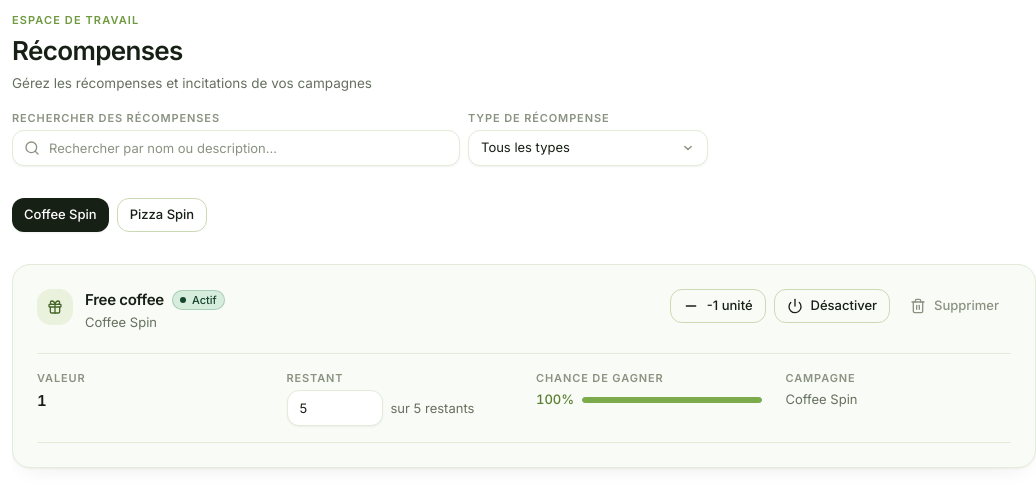
rewards page › filters rewards by campaign through the API when one is selected
Expected: the heading "Free coffee" is shown, [85,289,164,311]
Click the button "Pizza Spin" at {"x": 162, "y": 215}, box [117,198,207,232]
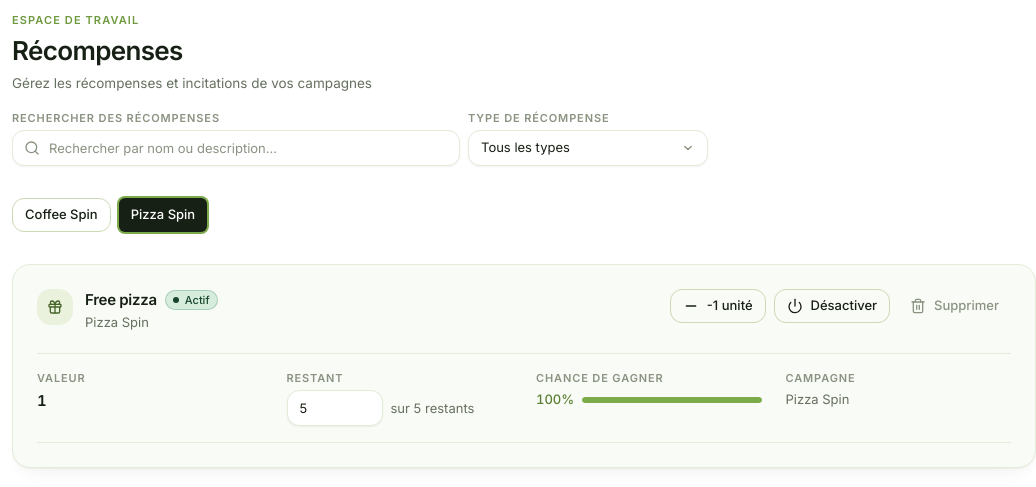
Now the heading "Free pizza" is shown, box [85,289,157,311]
Now the heading "Free coffee" is gone
